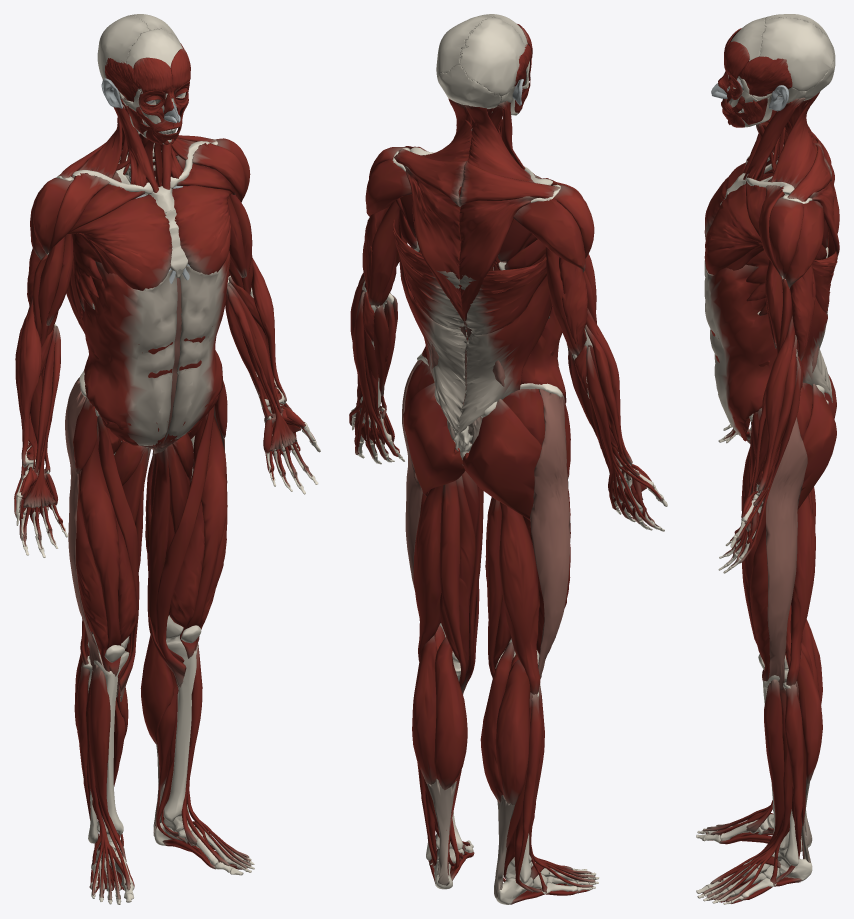
File: ecorche.glb
The picture shows the model from 3 angles, left to right: view 1: azimuth 30°, elevation 25°; view 2: azimuth 150°, elevation 25°; view 3: azimuth 270°, elevation 25°; orthographic projection. The views are drawn at different scales.
Visible parts, largest first — view 1: Right external oblique, Left external oblique, Sternocostal part of right pectoralis major, Right rectus femoris, Sternocostal part of left pectoralis major, Left sartorius, Left rectus femoris, Right sartorius, Left tibia, Left gracilis, Right tibialis anterior, Right vastus lateralis (+47 smaller); view 2: Right latissimus dorsi, Right iliotibial tract, Left latissimus dorsi, Right gluteus maximus, Long head of right biceps femoris, Ascending part of left trapezius, Left gluteus maximus, Ascending part of right trapezius, Lateral head of right gastrocnemius, Medial head of left gastrocnemius, Right parietal bone, Long head of left biceps femoris (+35 smaller); view 3: Left external oblique, Left iliotibial tract, Left parietal bone, Sternocostal part of left pectoralis major, Long head of left biceps femoris, Left gluteus maximus, Left tibialis anterior, Left latissimus dorsi, Left brachioradialis, Left fibularis longus, Descending part of left trapezius, Lateral head of left gastrocnemius (+32 smaller).
Boxes of the visible parts, x1=… form: Right external oblique: x1=81, y1=261, x2=177, y2=448; Left external oblique: x1=164, y1=251, x2=230, y2=441; Sternocostal part of right pectoralis major: x1=67, y1=194, x2=172, y2=290; Right rectus femoris: x1=79, y1=422, x2=121, y2=676; Sternocostal part of left pectoralis major: x1=172, y1=185, x2=231, y2=274; Left sartorius: x1=155, y1=405, x2=214, y2=687; Left rectus femoris: x1=180, y1=413, x2=227, y2=658; Right sartorius: x1=97, y1=415, x2=139, y2=701; Left tibia: x1=163, y1=635, x2=197, y2=822; Left gracilis: x1=147, y1=447, x2=184, y2=662; Right tibialis anterior: x1=89, y1=664, x2=126, y2=861; Right vastus lateralis: x1=76, y1=470, x2=109, y2=671; Right latissimus dorsi: x1=457, y1=257, x2=552, y2=433; Right iliotibial tract: x1=530, y1=389, x2=570, y2=678; Left latissimus dorsi: x1=393, y1=219, x2=467, y2=432; Right gluteus maximus: x1=462, y1=399, x2=541, y2=520; Long head of right biceps femoris: x1=499, y1=502, x2=540, y2=694; Ascending part of left trapezius: x1=403, y1=165, x2=465, y2=325; Left gluteus maximus: x1=403, y1=383, x2=465, y2=496; Ascending part of right trapezius: x1=459, y1=187, x2=537, y2=323; Lateral head of right gastrocnemius: x1=495, y1=659, x2=530, y2=804; Medial head of left gastrocnemius: x1=434, y1=637, x2=467, y2=790; Right parietal bone: x1=459, y1=16, x2=525, y2=96; Long head of left biceps femoris: x1=413, y1=485, x2=443, y2=661; Left external oblique: x1=704, y1=264, x2=777, y2=439; Left iliotibial tract: x1=766, y1=417, x2=807, y2=689; Left parietal bone: x1=759, y1=17, x2=833, y2=90; Sternocostal part of left pectoralis major: x1=704, y1=184, x2=762, y2=274; Long head of left biceps femoris: x1=786, y1=494, x2=815, y2=685; Left gluteus maximus: x1=797, y1=383, x2=836, y2=509; Left tibialis anterior: x1=758, y1=679, x2=784, y2=853; Left latissimus dorsi: x1=801, y1=249, x2=837, y2=402; Left brachioradialis: x1=757, y1=316, x2=795, y2=493; Left fibularis longus: x1=776, y1=684, x2=803, y2=879; Descending part of left trapezius: x1=770, y1=92, x2=819, y2=188; Lateral head of left gastrocnemius: x1=797, y1=650, x2=822, y2=783.
Bounding box in the file's own units: 0.6478 × 1.71 × 0.2618.
